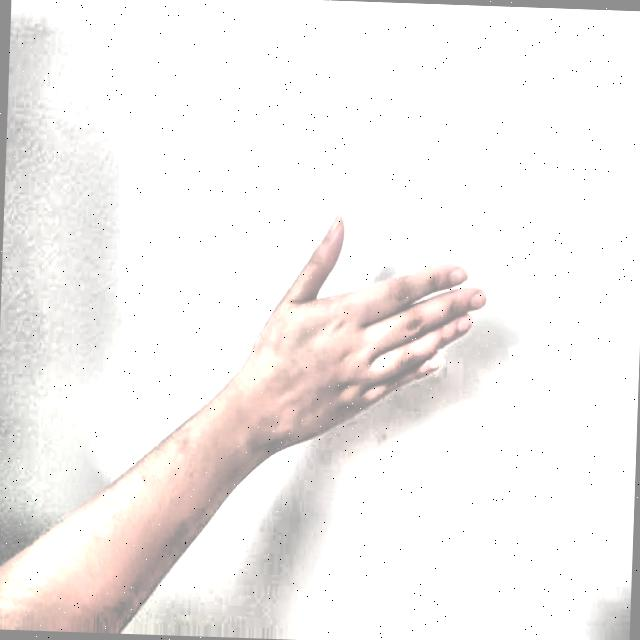Aa: (220, 209, 528, 503)
